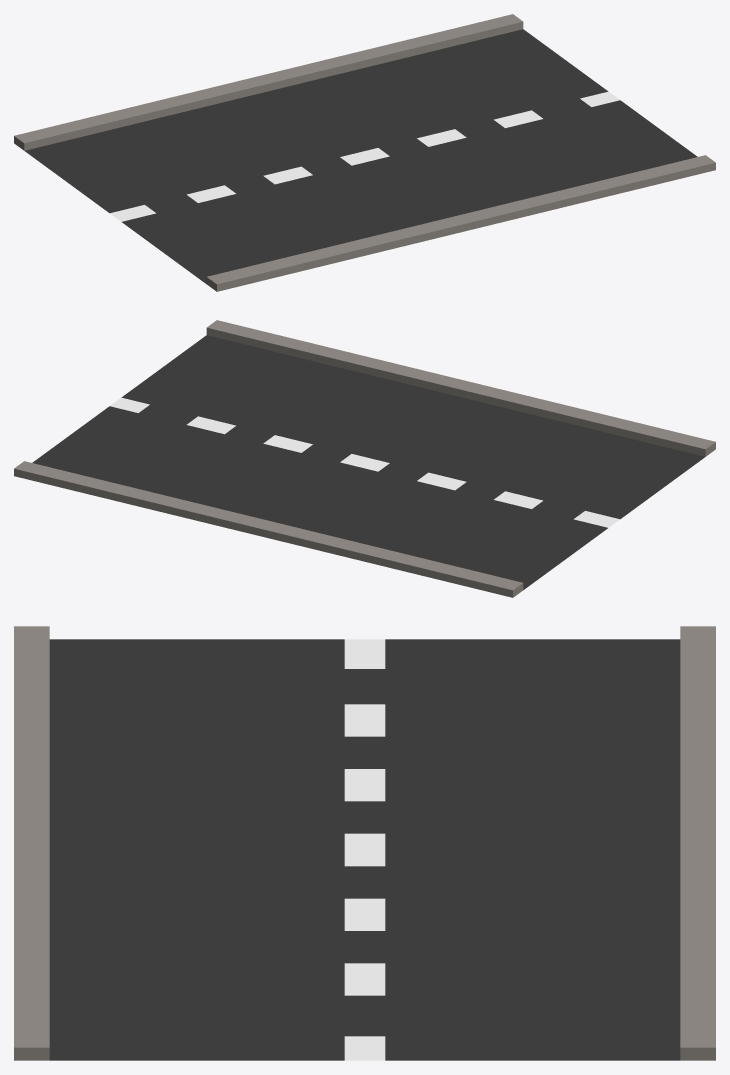
The model's file is RoadTile_1.fbx.
The picture shows the model from 3 angles, top to bottom: view 1: azimuth 30°, elevation 25°; view 2: azimuth 150°, elevation 25°; view 3: azimuth 270°, elevation 25°; orthographic projection. The views are drawn at different scales.
Parts seen in each view (by area): view 1: RoadTile_1; view 2: RoadTile_1; view 3: RoadTile_1.
Boxes of the visible parts, x1,y1,x2,y2 form: RoadTile_1: (14, 14, 715, 291); RoadTile_1: (14, 320, 715, 597); RoadTile_1: (14, 626, 715, 1060).
Bounding box in the file's own units: 831 × 12 × 586.
